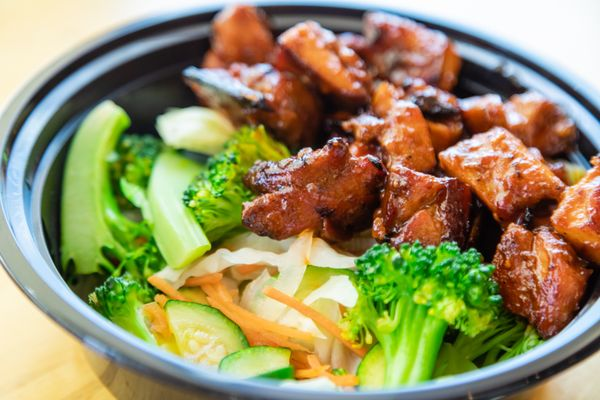curry: (340, 240, 541, 389), (181, 122, 292, 244), (88, 274, 158, 345)
sushi: (0, 6, 592, 396)
